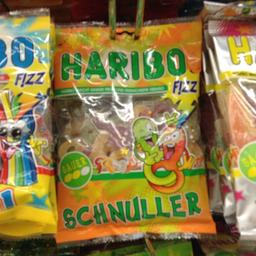candy: (54, 17, 216, 238), (0, 3, 62, 232)
